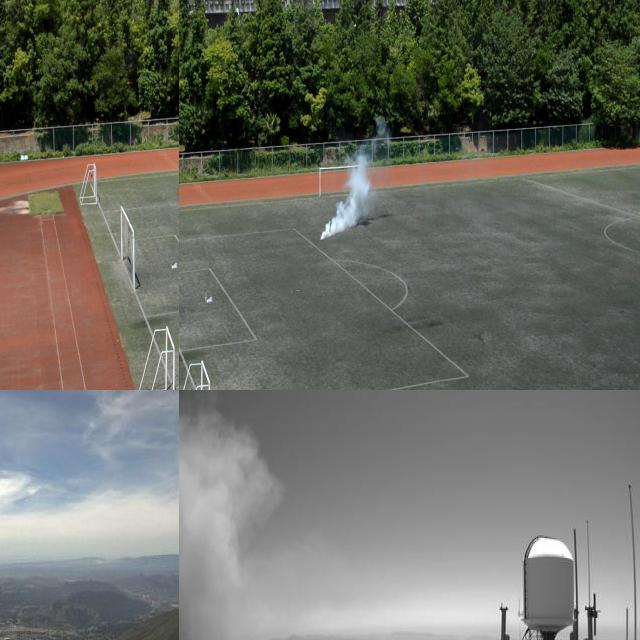smoke: (179, 390, 272, 640), (320, 146, 386, 242)
